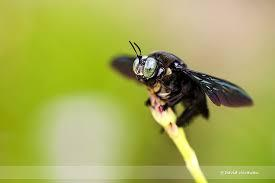Xylocopa: (103, 37, 247, 127)
